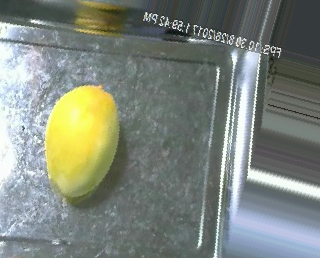Mango: (37, 78, 135, 205)
